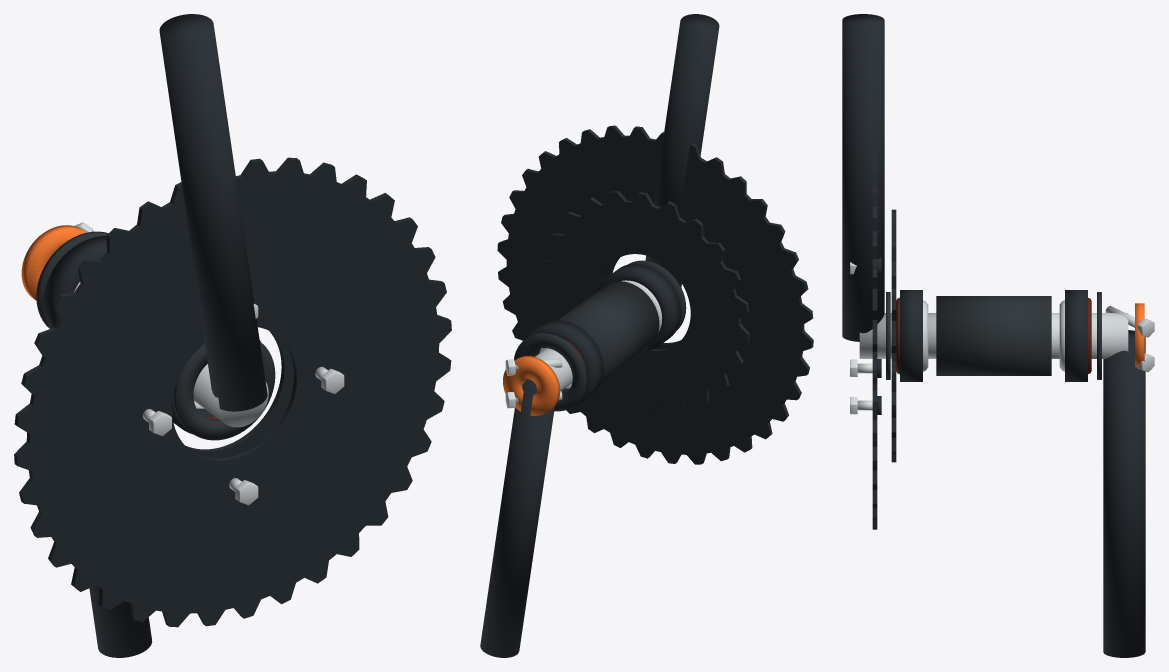
Rendered from crank_bottom_bracket_LOD0.fbx.
3 renders of one model, left to right at view 1: azimuth 30°, elevation 25°; view 2: azimuth 150°, elevation 25°; view 3: azimuth 270°, elevation 25°, orthographic. The views are drawn at different scales.
Visible parts, largest first — view 1: MM_crank_chainring_1, MM_crank_arm_2, MM_crank_bb_spacer_1, MM_crank_arm_1, MM_crank_chainring_2, MM_crank_bb_cup_2, MM_crank_preload_cap, MM_crank_spindle, MM_crank_bb_spacer_2; view 2: MM_crank_chainring_1, MM_crank_chainring_2, MM_crank_arm_1, MM_crank_arm_2, MM_crank_bb_sleeve, MM_crank_bb_cup_1, MM_crank_preload_cap, MM_crank_bb_cup_2, MM_crank_bb_spacer_2, MM_crank_spindle, MM_crank_bb_spacer_1; view 3: MM_crank_arm_1, MM_crank_arm_2, MM_crank_bb_sleeve, MM_crank_spindle, MM_crank_chainring_1, MM_crank_bb_cup_1, MM_crank_bb_cup_2, MM_crank_chainring_2, MM_crank_preload_cap, MM_crank_pinch_bolt_2.
Boxes of the visible parts, x1=… form: MM_crank_chainring_1: x1=14, y1=157, x2=451, y2=627; MM_crank_arm_2: x1=159, y1=14, x2=267, y2=411; MM_crank_bb_spacer_1: x1=173, y1=341, x2=275, y2=440; MM_crank_arm_1: x1=89, y1=585, x2=152, y2=657; MM_crank_chainring_2: x1=185, y1=331, x2=293, y2=458; MM_crank_bb_cup_2: x1=43, y1=236, x2=106, y2=328; MM_crank_preload_cap: x1=21, y1=225, x2=85, y2=300; MM_crank_spindle: x1=193, y1=364, x2=268, y2=427; MM_crank_bb_spacer_2: x1=36, y1=231, x2=108, y2=328; MM_crank_chainring_1: x1=497, y1=125, x2=813, y2=464; MM_crank_chainring_2: x1=543, y1=191, x2=749, y2=412; MM_crank_arm_1: x1=480, y1=379, x2=554, y2=657; MM_crank_arm_2: x1=645, y1=14, x2=719, y2=287; MM_crank_bb_sleeve: x1=558, y1=281, x2=659, y2=380; MM_crank_bb_cup_1: x1=598, y1=263, x2=681, y2=351; MM_crank_preload_cap: x1=503, y1=356, x2=560, y2=415; MM_crank_bb_cup_2: x1=524, y1=320, x2=603, y2=406; MM_crank_bb_spacer_2: x1=514, y1=333, x2=587, y2=411; MM_crank_spindle: x1=535, y1=348, x2=572, y2=390; MM_crank_bb_spacer_1: x1=628, y1=260, x2=686, y2=330; MM_crank_arm_1: x1=1103, y1=330, x2=1145, y2=657; MM_crank_arm_2: x1=842, y1=14, x2=884, y2=341; MM_crank_bb_sleeve: x1=936, y1=296, x2=1051, y2=375; MM_crank_spindle: x1=859, y1=313, x2=1128, y2=358; MM_crank_chainring_1: x1=872, y1=155, x2=877, y2=529; MM_crank_bb_cup_1: x1=900, y1=290, x2=922, y2=381; MM_crank_bb_cup_2: x1=1065, y1=290, x2=1087, y2=381; MM_crank_chainring_2: x1=891, y1=209, x2=896, y2=462; MM_crank_preload_cap: x1=1135, y1=303, x2=1144, y2=367; MM_crank_pinch_bolt_2: x1=1105, y1=306, x2=1154, y2=337.
Bounding box in the file's own units: 0.2018 × 0.3432 × 0.1628.
